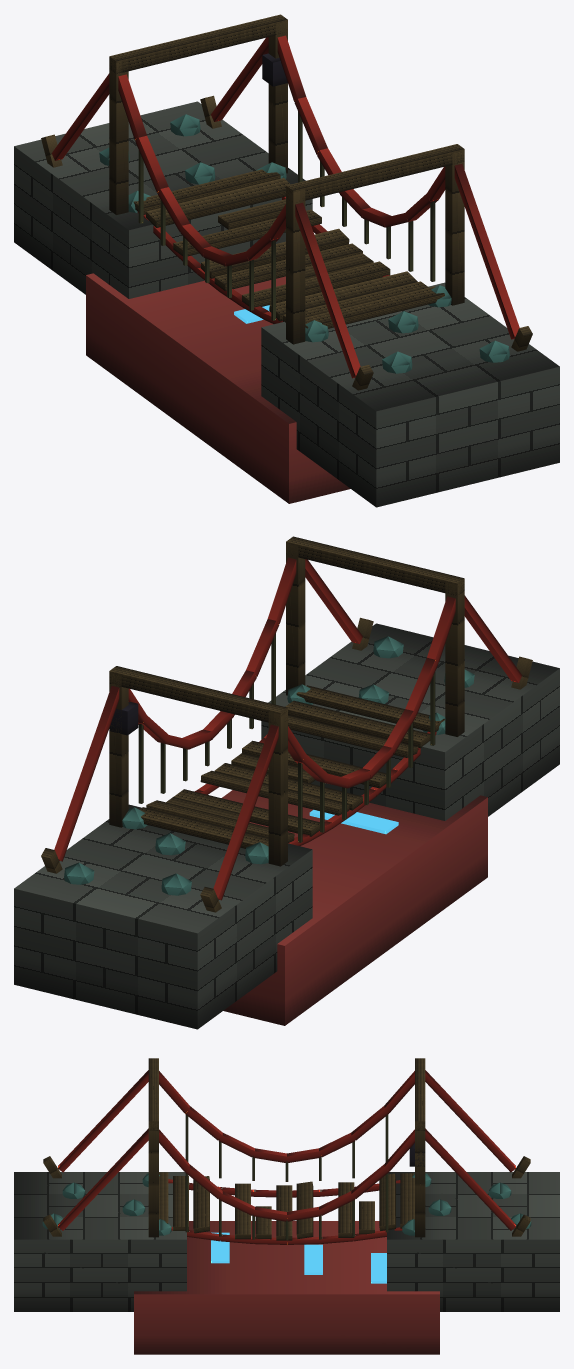
Rendered from foot_bridge.gltf.
The picture shows the model from 3 angles, top to bottom: view 1: azimuth 30°, elevation 25°; view 2: azimuth 150°, elevation 25°; view 3: azimuth 270°, elevation 25°; orthographic projection. The views are drawn at different scales.
Visible parts, largest first — view 1: foot_bridge; view 2: foot_bridge; view 3: foot_bridge.
Part boxes in pixels (box(x1,y1,x2,y2)): foot_bridge: box(14, 14, 559, 507); foot_bridge: box(14, 536, 559, 1029); foot_bridge: box(14, 1058, 559, 1354).
Bounding box in the file's own units: 1.3 × 1.89 × 4.1.
1 material, 1 textured.
